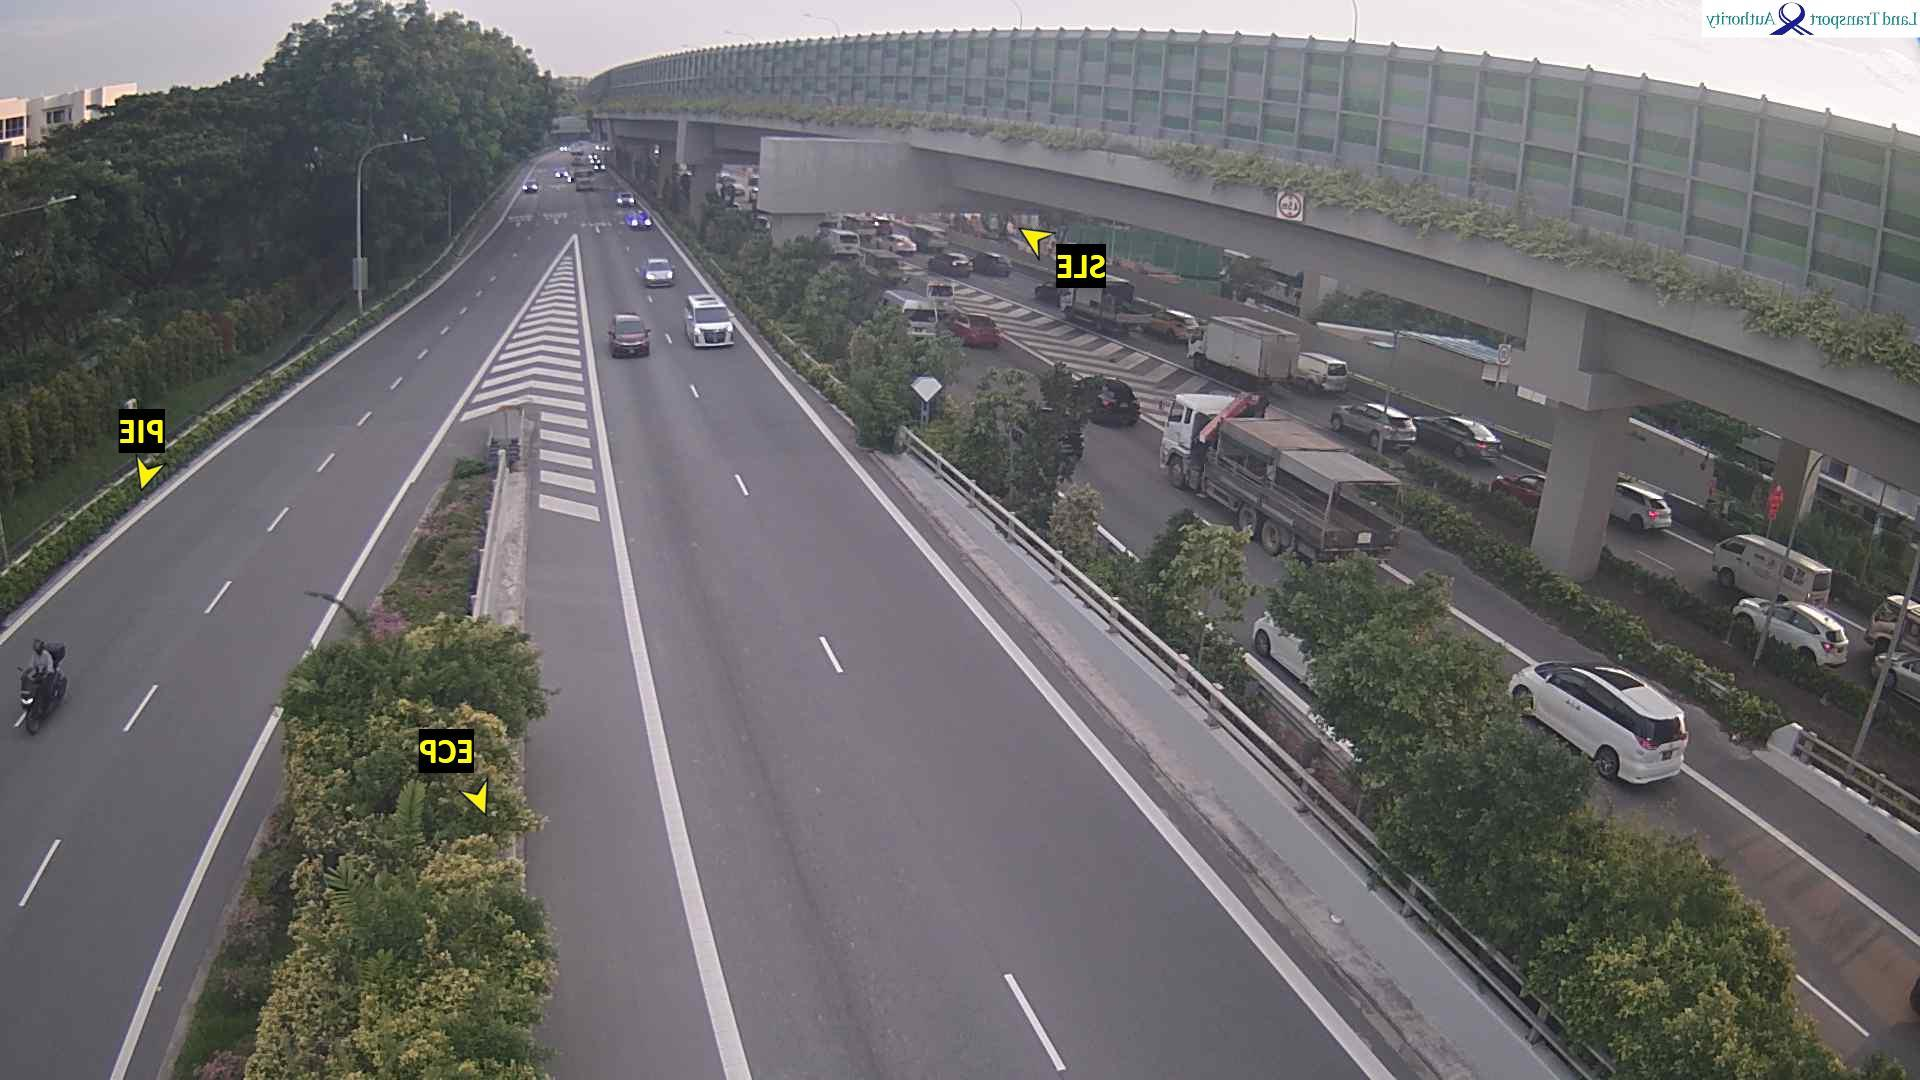incoming: (689, 302, 733, 350), (14, 676, 41, 734), (609, 321, 650, 359), (645, 261, 673, 288), (630, 219, 651, 229)
